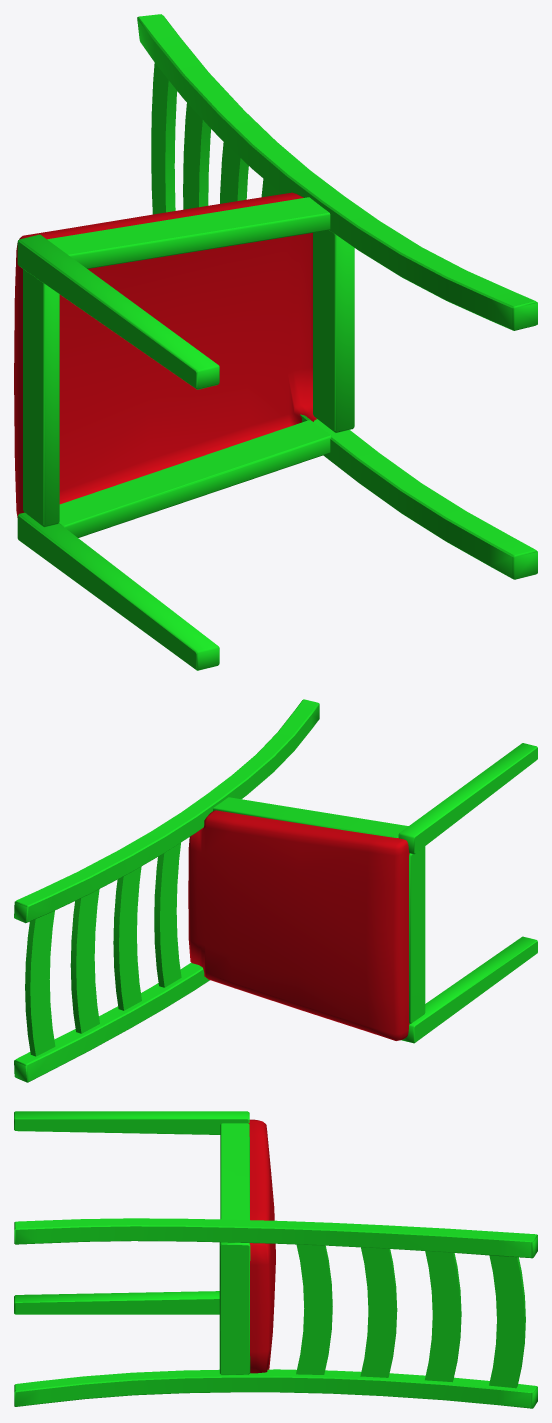
Rendered from kitchen_chair_2.FBX.
3 views of the same model, one above another, from view 1: azimuth 30°, elevation 25°; view 2: azimuth 150°, elevation 25°; view 3: azimuth 270°, elevation 25° (orthographic). The views are drawn at different scales.
Parts seen in each view (by area): view 1: seat004; view 2: seat004; view 3: seat004.
Boxes of the visible parts, x1,y1,x2,y2 form: seat004: (14, 14, 537, 670); seat004: (14, 699, 537, 1082); seat004: (14, 1111, 537, 1408).
Size of the model in its own units: 52.81 by 41.8 by 101.
